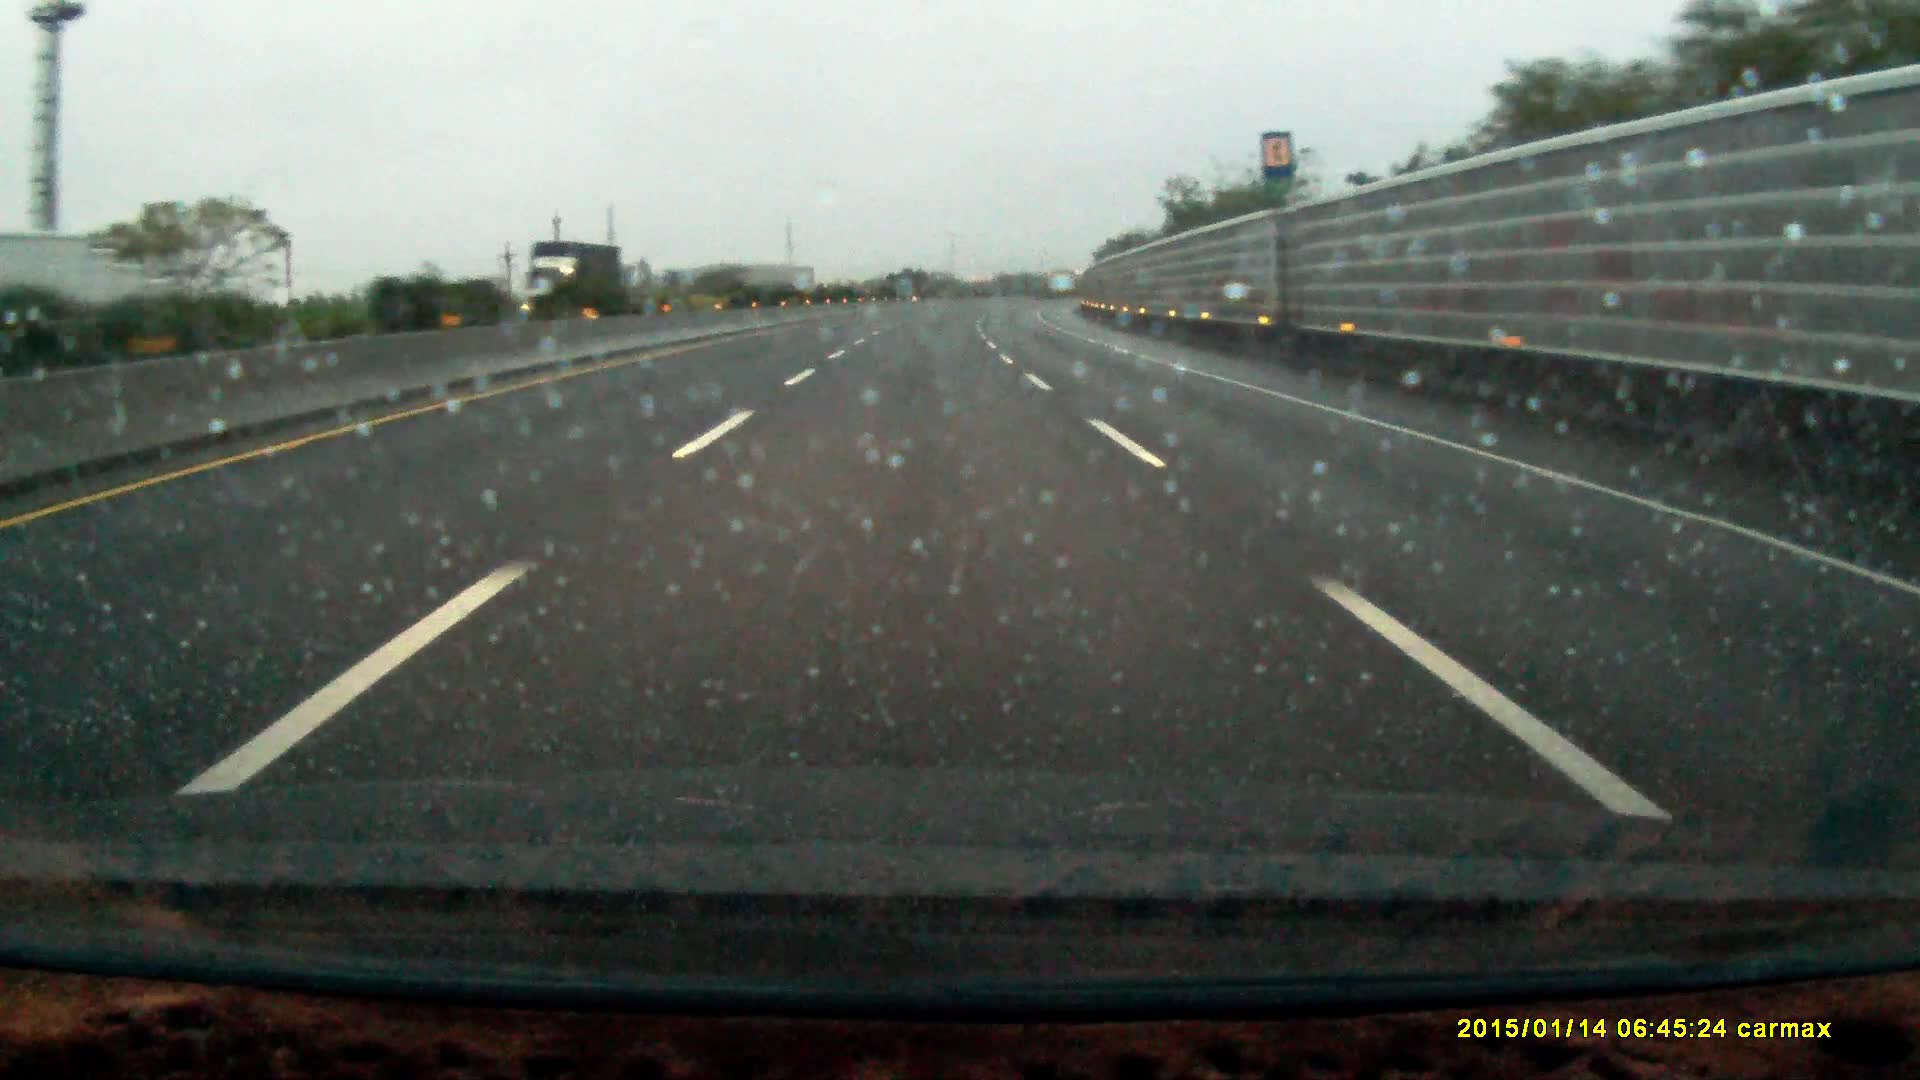vehicle: (529, 241, 621, 322)
